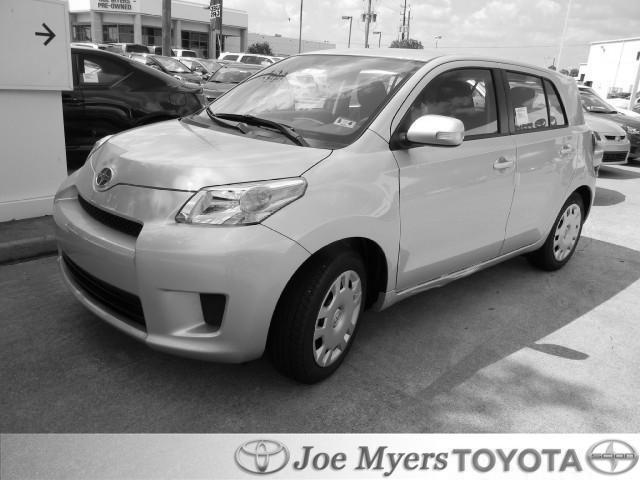car: (51, 47, 600, 386)
